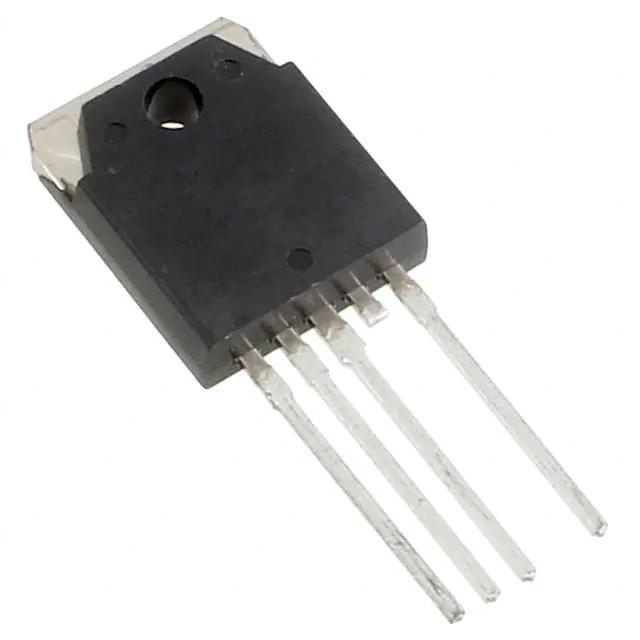Transistor: (36, 24, 605, 620)
